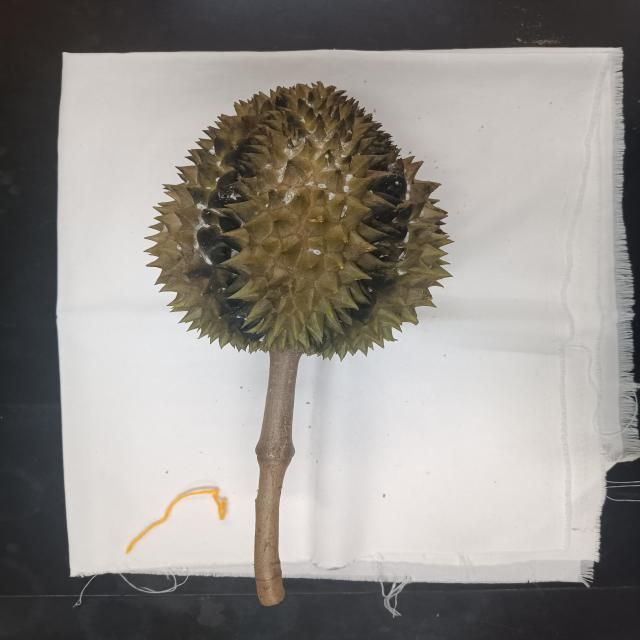defective: (147, 77, 450, 353)
